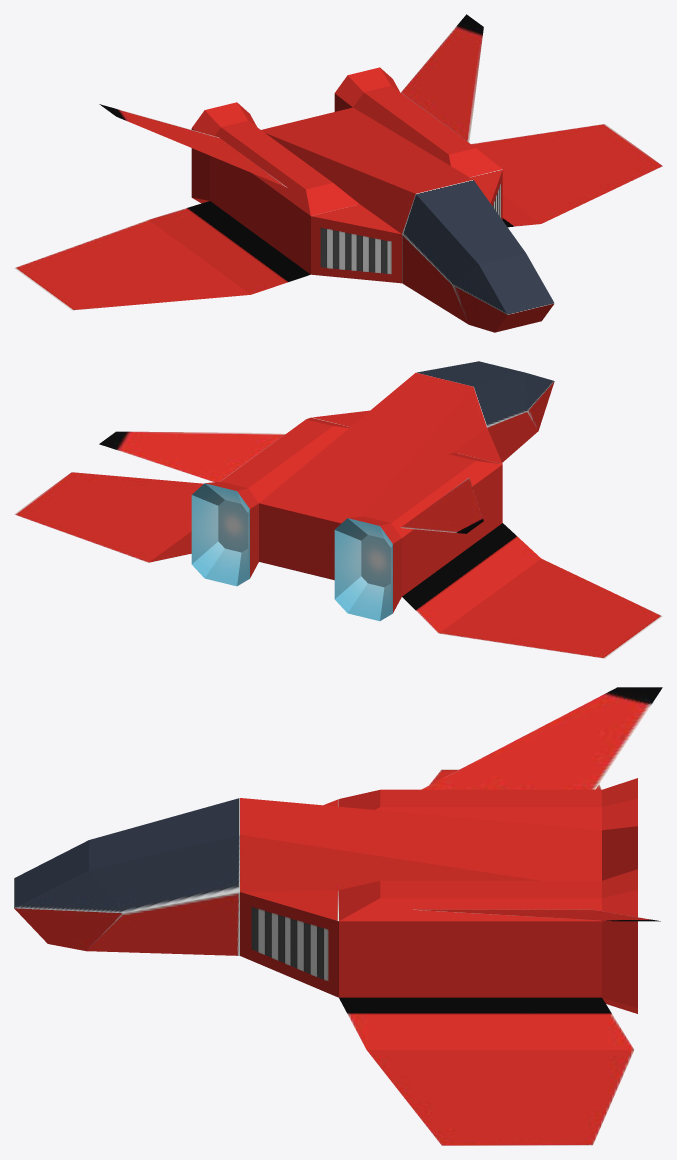
File: Space Ship.fbx
The picture shows the model from 3 angles, top to bottom: view 1: azimuth 30°, elevation 25°; view 2: azimuth 150°, elevation 25°; view 3: azimuth 270°, elevation 25°; orthographic projection. The views are drawn at different scales.
Visible parts, largest first — view 1: Spaceship.001; view 2: Spaceship.001; view 3: Spaceship.001.
Part boxes in pixels (box(x1,y1,x2,y2)): Spaceship.001: box(14, 14, 662, 332); Spaceship.001: box(14, 361, 662, 658); Spaceship.001: box(14, 687, 662, 1145).
Size of the model in its own units: 8.48 by 1.61 by 6.17.
Materials: 1 (1 with a texture image).
